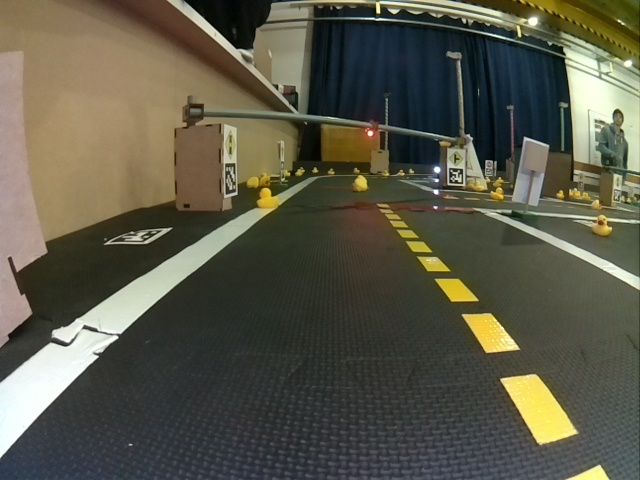Duckie: (258, 188, 278, 208), (593, 215, 612, 236), (354, 176, 368, 192), (490, 187, 503, 200), (474, 182, 483, 191), (295, 169, 304, 177), (327, 169, 336, 175)
Intersection sign: (448, 151, 463, 166)
QR code: (104, 228, 171, 243), (225, 164, 236, 193), (449, 170, 463, 185), (614, 189, 622, 202)
Signal sign: (224, 129, 237, 158)
Traffic light: (364, 124, 378, 139)
